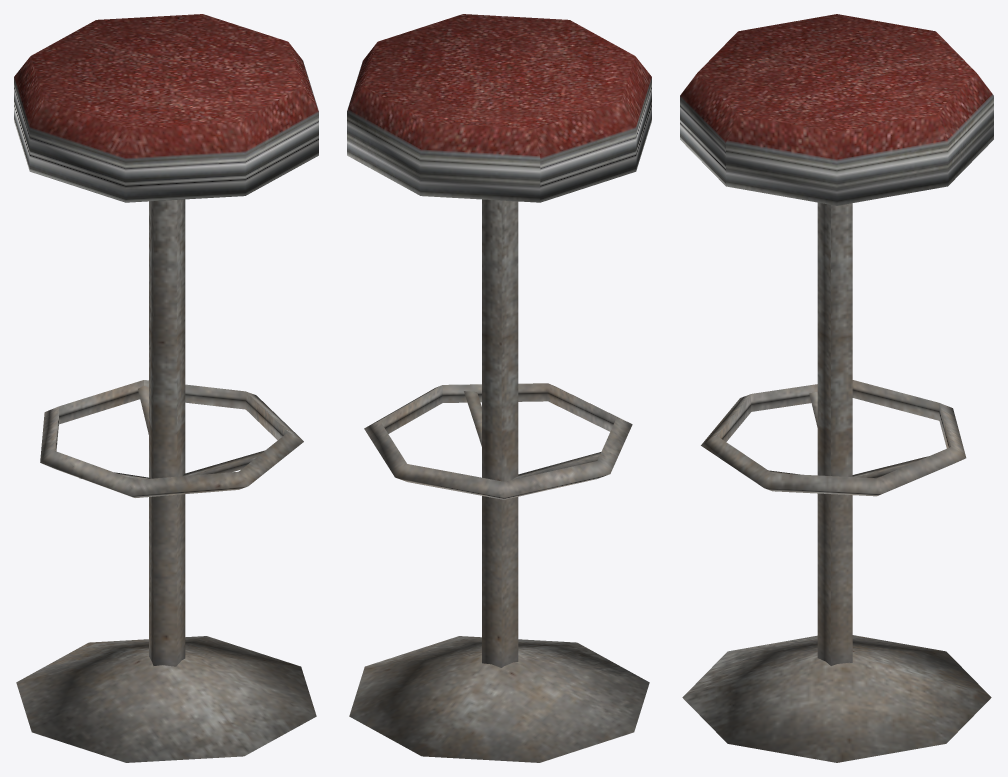
File: Seat_01.dae
3 views of the same model, side by side, from view 1: azimuth 30°, elevation 25°; view 2: azimuth 150°, elevation 25°; view 3: azimuth 270°, elevation 25° (orthographic).
Visible parts, largest first — view 1: Seat_01; view 2: Seat_01; view 3: Seat_01.
Boxes of the visible parts, x1,y1,x2,y2 form: Seat_01: [14, 14, 318, 762]; Seat_01: [347, 14, 651, 762]; Seat_01: [680, 14, 993, 762].
Size of the model in its own units: 0.3739 by 0.3739 by 0.8209.
1 material, 1 textured.
